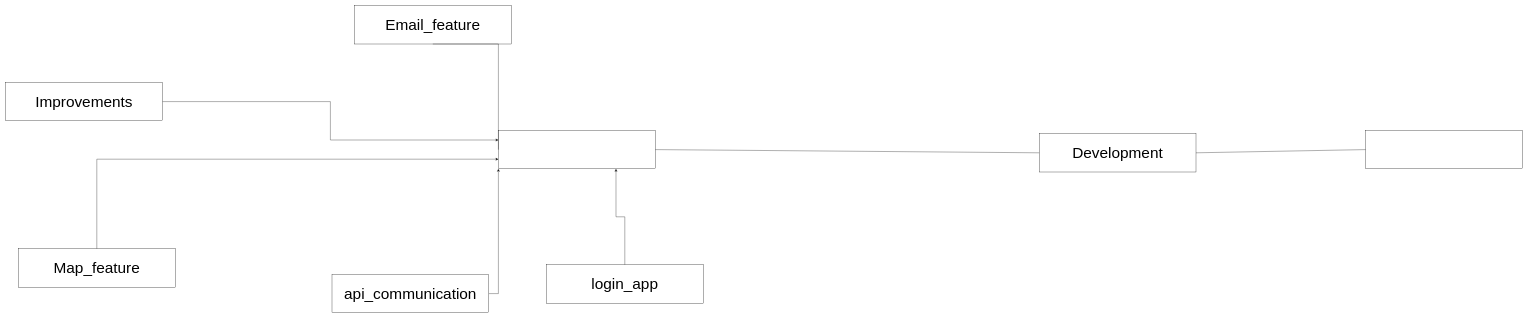
The diagram is 1528 pixels wide and 318 high, and some of its shapes have lost their labels. The shapes that lost their labels are listed below. From the top down, each one's box as (x1, y1, x2, y2) in pixels, then its label:
(498, 130, 655, 169): Visual_Enchancements
(1365, 130, 1522, 169): Main
